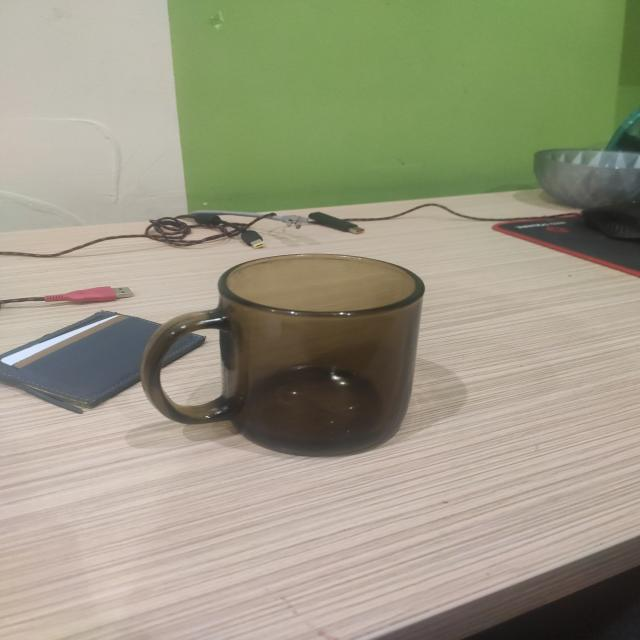cups: (140, 254, 425, 457)
